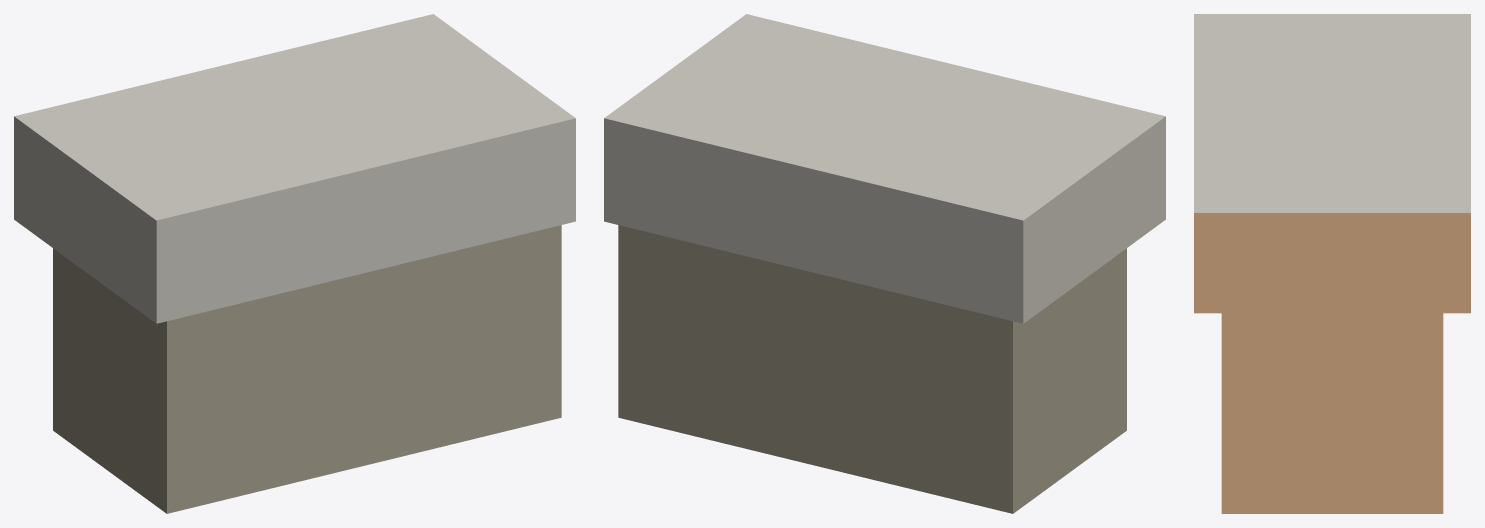
File: Tiered_Retaining_Wall_End_1x1_Top.glb
3 renders of one model, left to right at view 1: azimuth 30°, elevation 25°; view 2: azimuth 150°, elevation 25°; view 3: azimuth 270°, elevation 25°, orthographic. The views are drawn at different scales.
Visible parts, largest first — view 1: Tiered_Retaining_Wall_End_1x1_Top; view 2: Tiered_Retaining_Wall_End_1x1_Top; view 3: Tiered_Retaining_Wall_End_1x1_Top.
Boxes of the visible parts, x1,y1,x2,y2 form: Tiered_Retaining_Wall_End_1x1_Top: [14, 14, 575, 513]; Tiered_Retaining_Wall_End_1x1_Top: [604, 14, 1165, 513]; Tiered_Retaining_Wall_End_1x1_Top: [1194, 14, 1470, 513].
Bounding box in the file's own units: 53.12 × 37.5 × 31.25.
